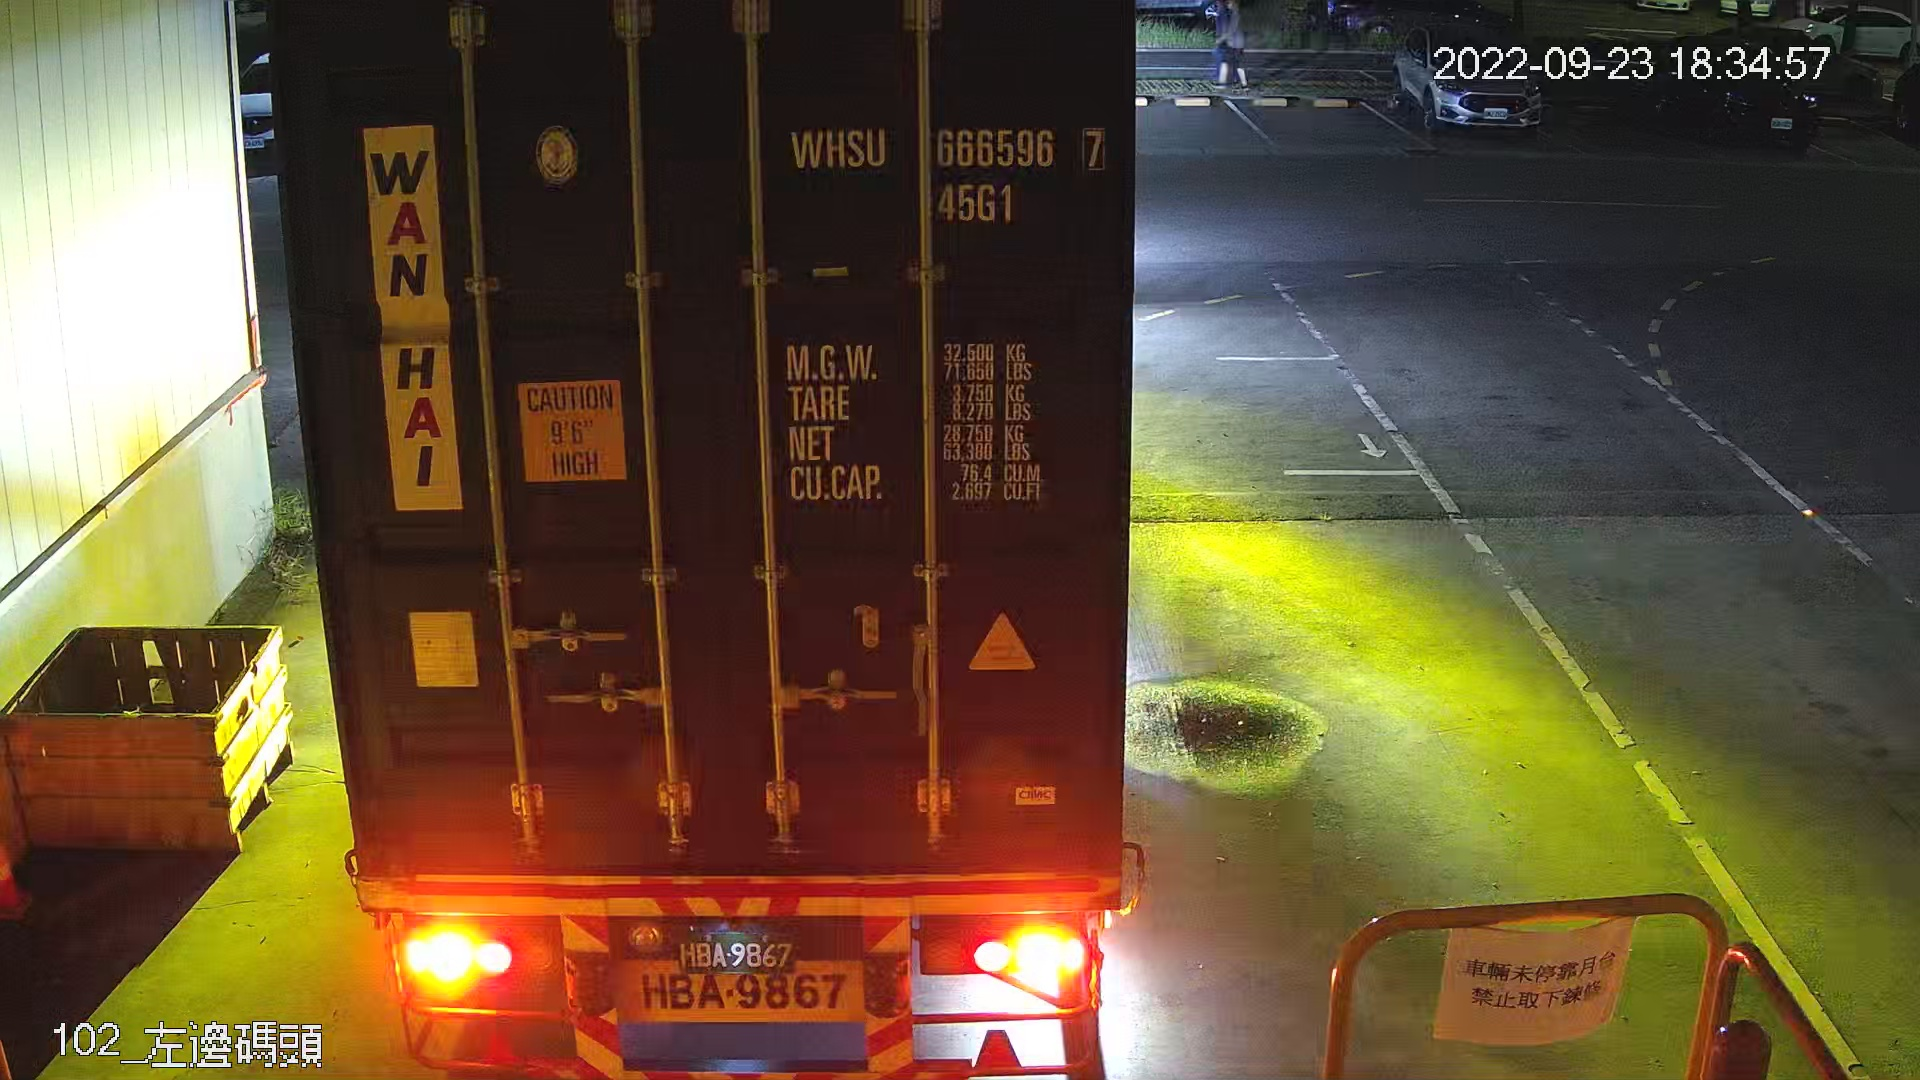container: (785, 105, 1120, 235)
